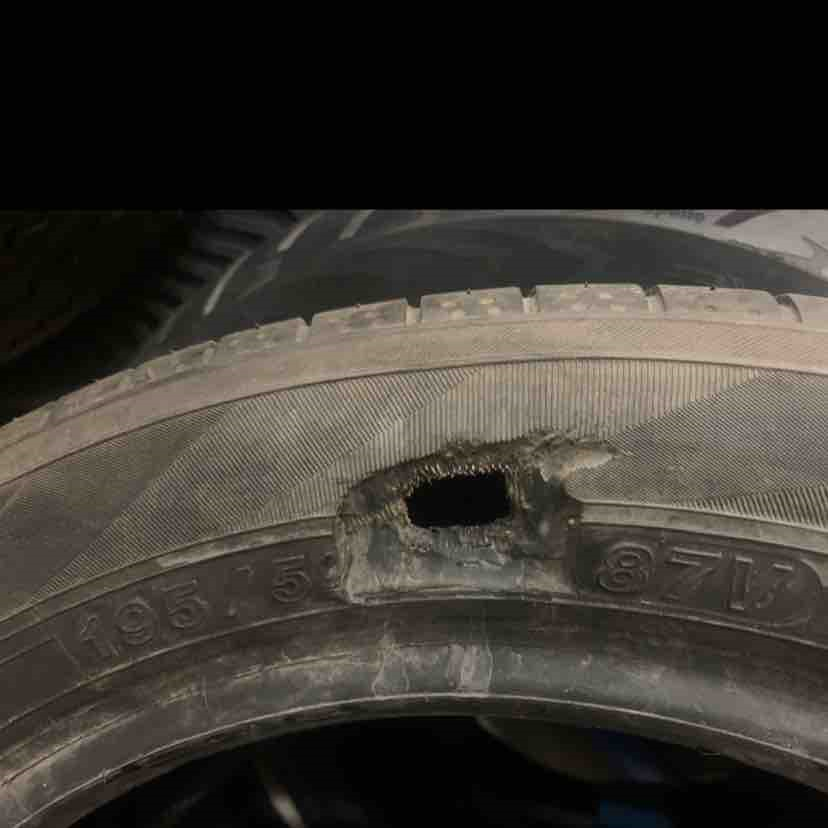bead_damage: (323, 417, 630, 619)
